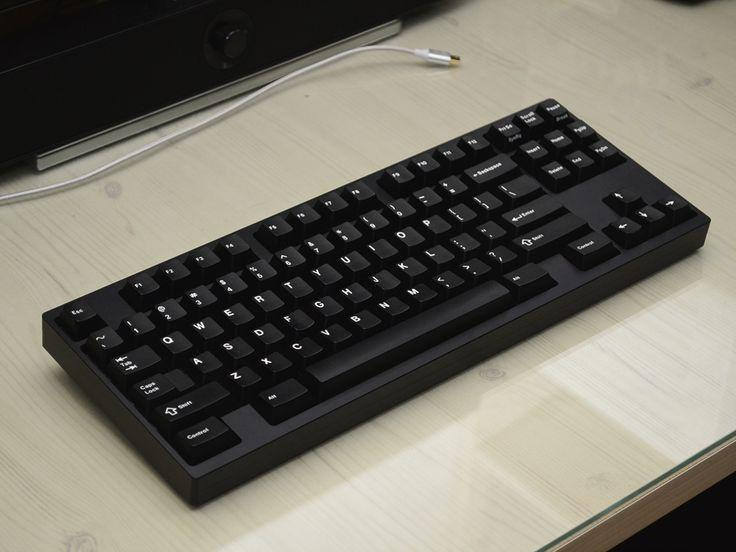keyboard: (40, 96, 711, 509)
